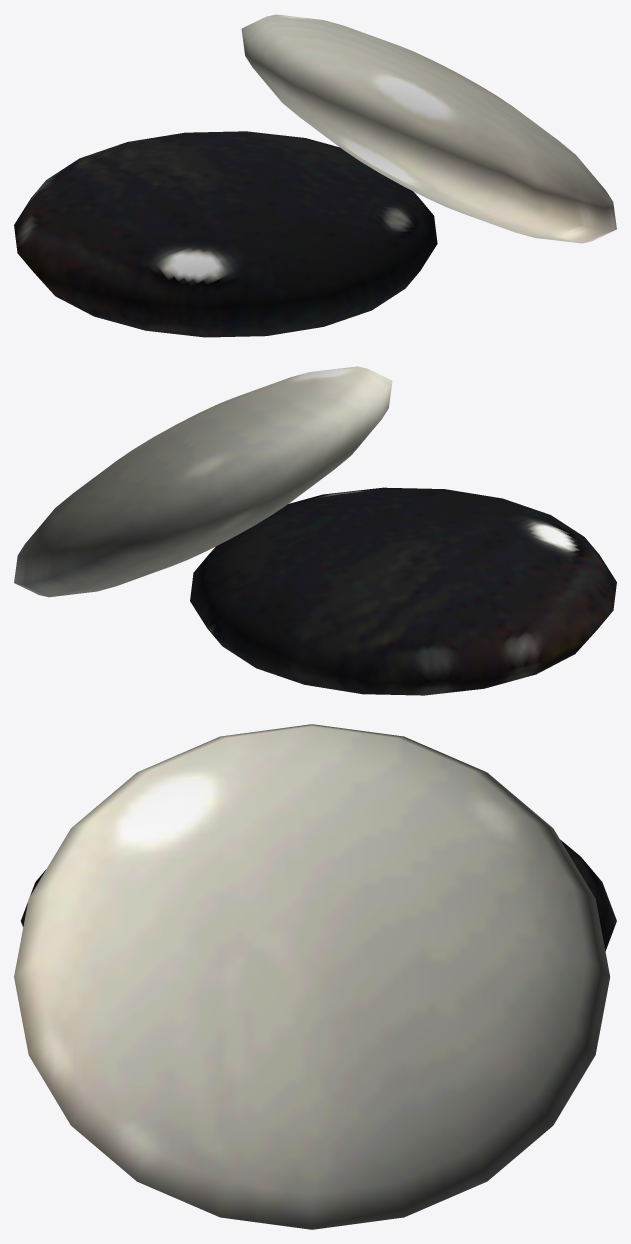
Rendered from Weiqi.ico.obj.
3 views of the same model, one above another, from view 1: azimuth 30°, elevation 25°; view 2: azimuth 150°, elevation 25°; view 3: azimuth 270°, elevation 25° (orthographic). The views are drawn at different scales.
Size of the model in its own units: 2.97 by 1.2 by 2.05.
1 material, 1 textured.
